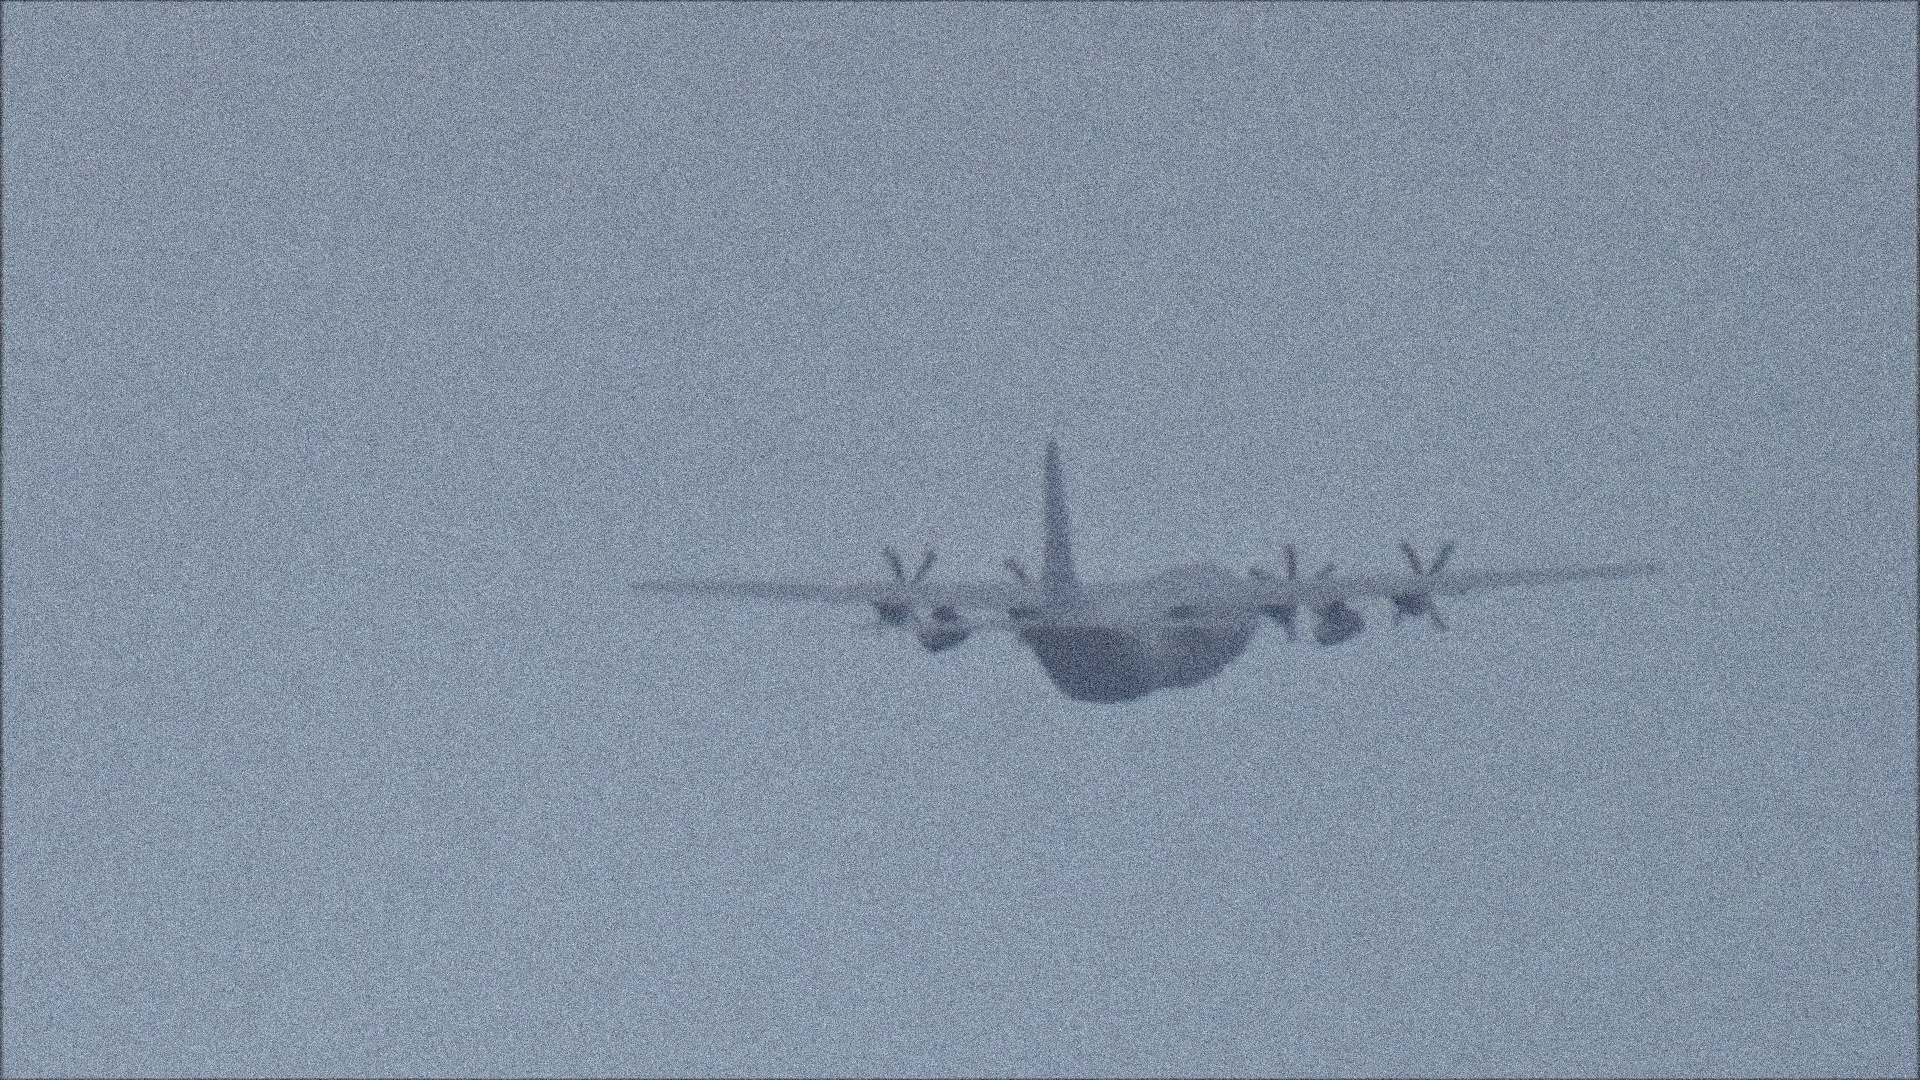Airplane: (634, 443, 1669, 708)
